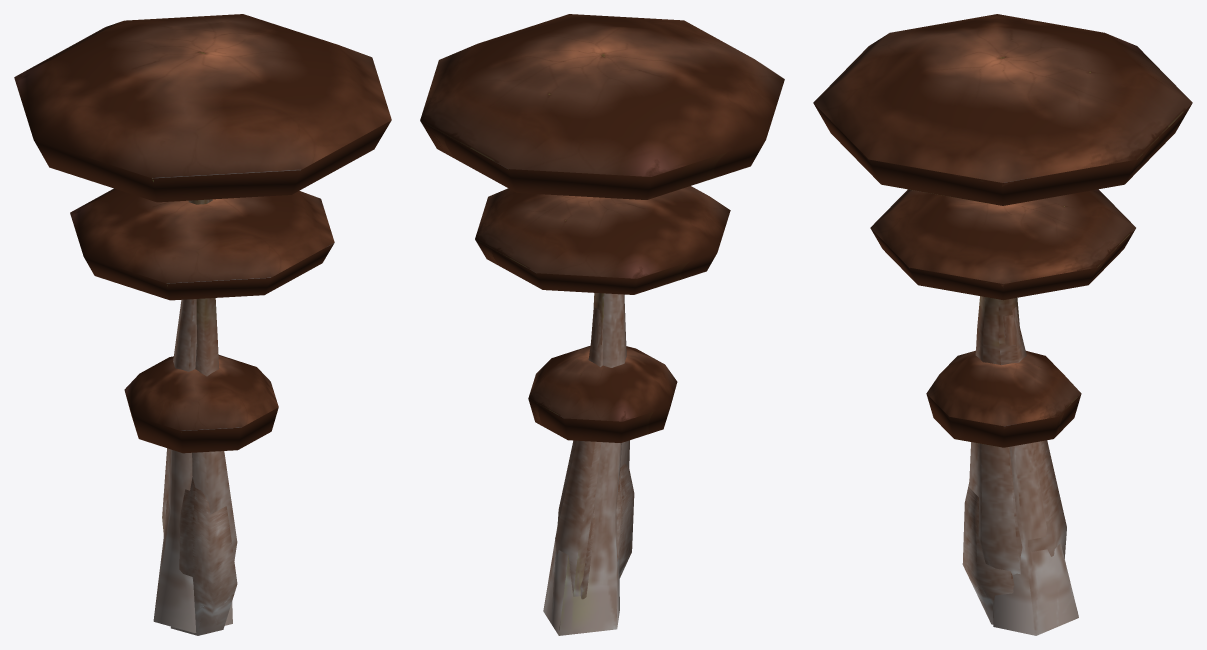
The model's file is mushroom.glb.
3 views of the same model, side by side, from view 1: azimuth 30°, elevation 25°; view 2: azimuth 150°, elevation 25°; view 3: azimuth 270°, elevation 25° (orthographic). The views are drawn at different scales.
Visible parts, largest first — view 1: shroom, shroom.001, shroom.002; view 2: shroom, shroom.001, shroom.002; view 3: shroom, shroom.001, shroom.002.
Part boxes in pixels (x1=…): shroom: x1=14, y1=14, x2=391, y2=632; shroom.001: x1=70, y1=188, x2=334, y2=560; shroom.002: x1=124, y1=355, x2=278, y2=635; shroom: x1=420, y1=14, x2=784, y2=635; shroom.001: x1=475, y1=186, x2=730, y2=596; shroom.002: x1=528, y1=346, x2=677, y2=599; shroom: x1=813, y1=14, x2=1192, y2=635; shroom.001: x1=870, y1=189, x2=1135, y2=575; shroom.002: x1=926, y1=350, x2=1081, y2=624.
Bounding box in the file's own units: 0.1107 × 0.1802 × 0.1107.
Materials: 1 (1 with a texture image).
